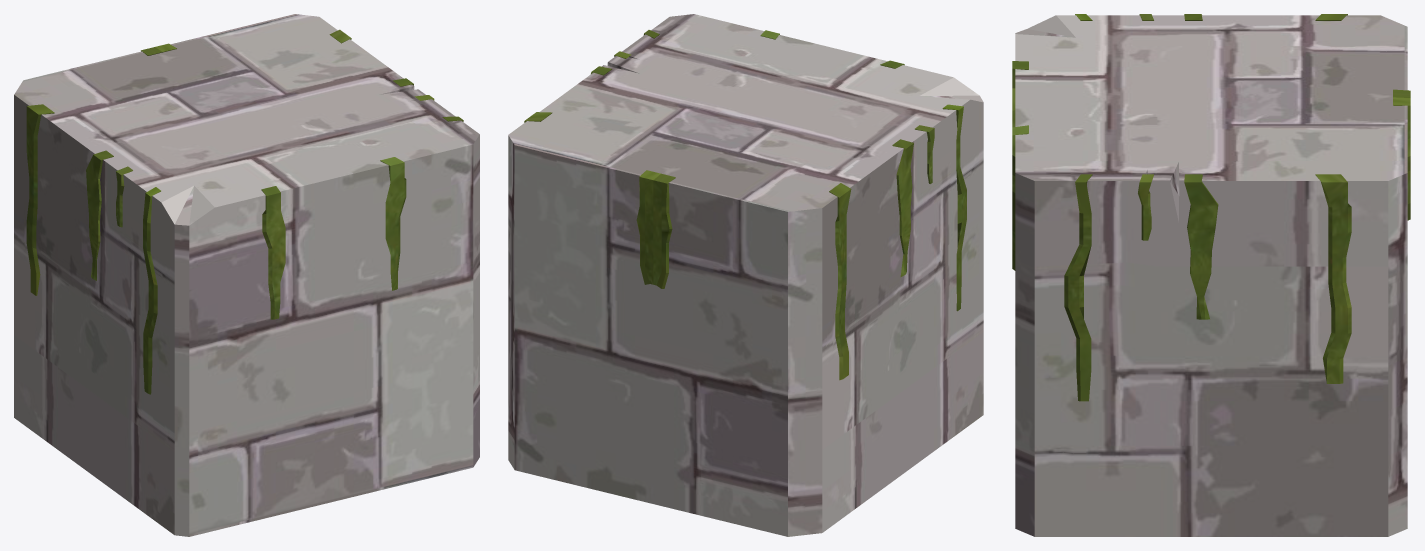
The model's file is Lianas.glb.
The picture shows the model from 3 angles, left to right: view 1: azimuth 30°, elevation 25°; view 2: azimuth 150°, elevation 25°; view 3: azimuth 270°, elevation 25°; orthographic projection. The views are drawn at different scales.
Visible parts, largest first — view 1: Lianas; view 2: Lianas; view 3: Lianas.
Boxes of the visible parts, x1,y1,x2,y2 form: Lianas: (14, 14, 479, 536); Lianas: (508, 14, 983, 536); Lianas: (1012, 14, 1410, 536).
Bounding box in the file's own units: 2.03 × 2 × 2.03.
1 material, 1 textured.
